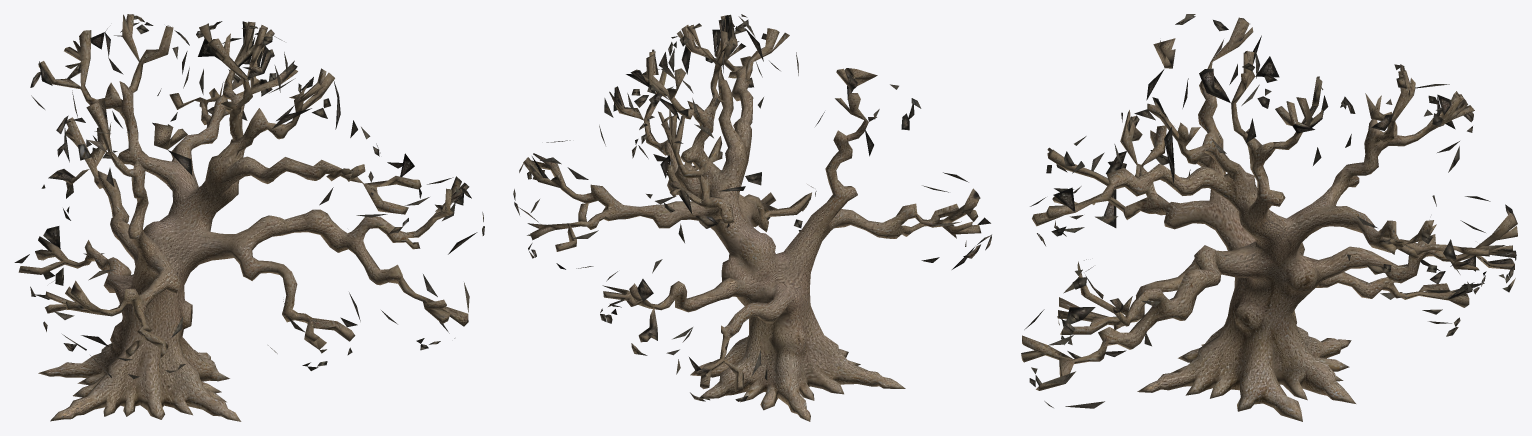
File: oak_tripo.glb
3 renders of one model, left to right at view 1: azimuth 30°, elevation 25°; view 2: azimuth 150°, elevation 25°; view 3: azimuth 270°, elevation 25°, orthographic. The views are drawn at different scales.
Visible parts, largest first — view 1: tripo_node_c07387aa-6d2d-480a-93b7-ee004a1511ba; view 2: tripo_node_c07387aa-6d2d-480a-93b7-ee004a1511ba; view 3: tripo_node_c07387aa-6d2d-480a-93b7-ee004a1511ba.
Boxes of the visible parts, x1,y1,x2,y2 form: tripo_node_c07387aa-6d2d-480a-93b7-ee004a1511ba: (14, 14, 484, 421); tripo_node_c07387aa-6d2d-480a-93b7-ee004a1511ba: (513, 14, 991, 421); tripo_node_c07387aa-6d2d-480a-93b7-ee004a1511ba: (1021, 14, 1517, 421).
Size of the model in its own units: 0.9941 by 0.8105 by 0.998.
Materials: 1 (1 with a texture image).
